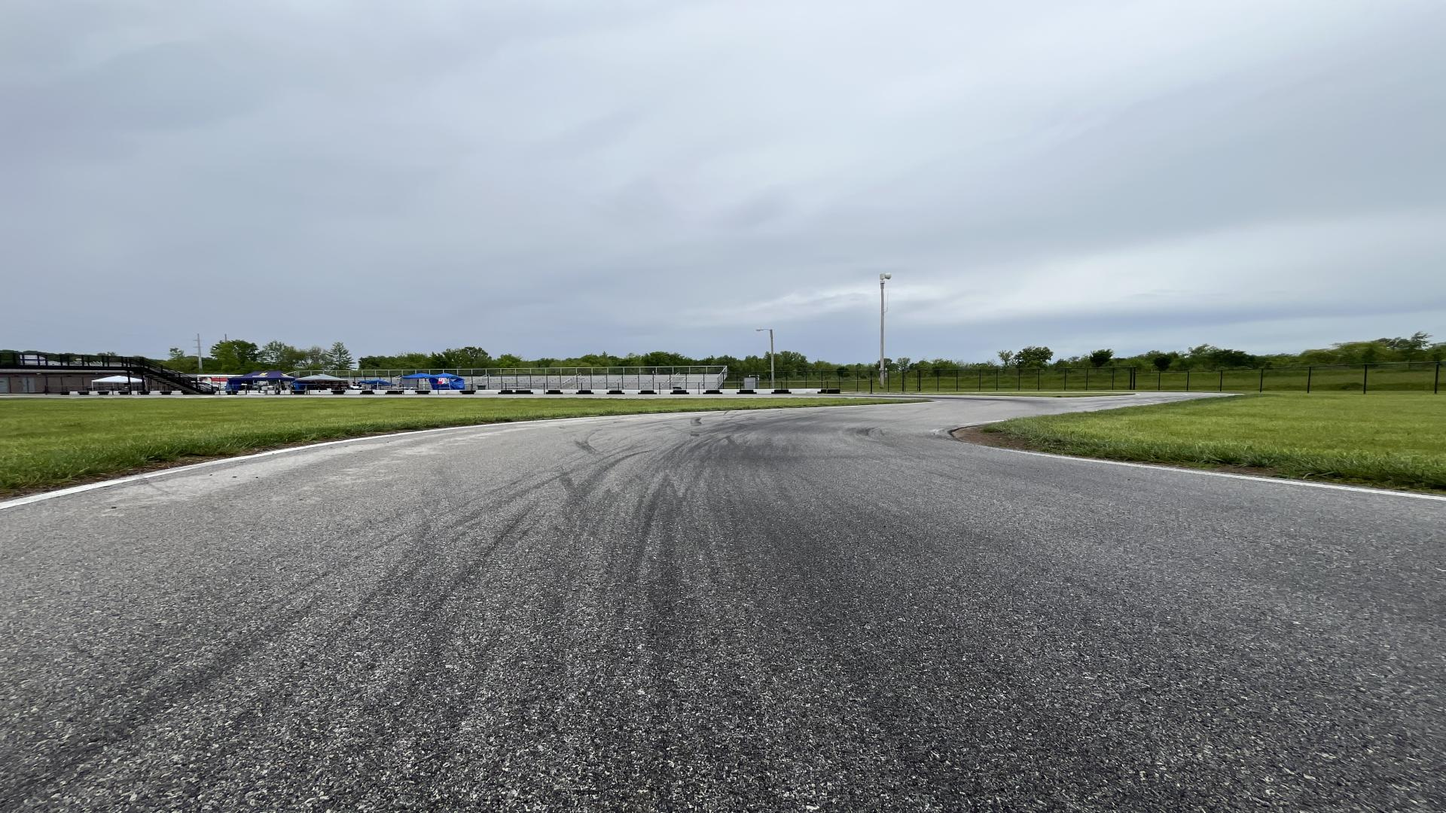white-line: (0, 411, 725, 510), (984, 446, 1445, 501), (777, 401, 941, 410), (982, 420, 1005, 422), (963, 423, 972, 425), (1131, 394, 1138, 396)
